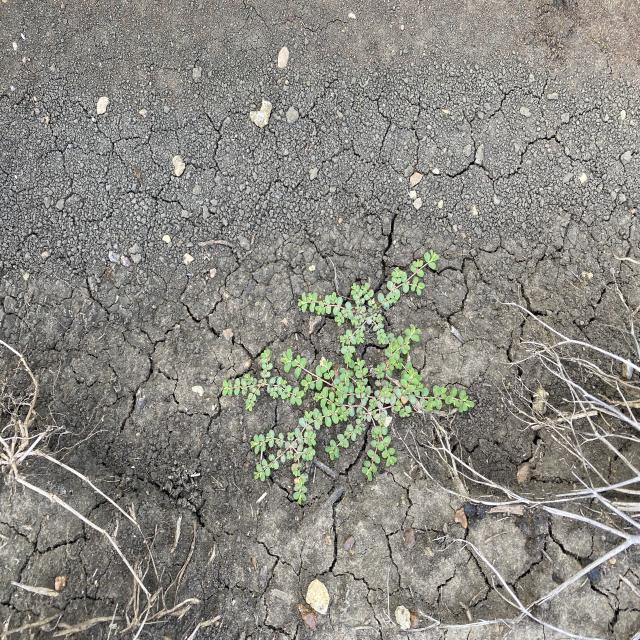SpottedSpurge: (219, 249, 476, 507)
